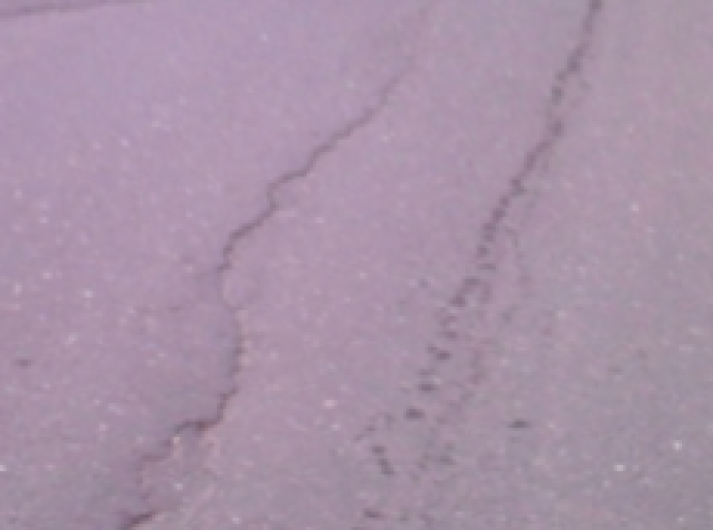Retak Melintang: (104, 27, 437, 530), (366, 1, 605, 530)
